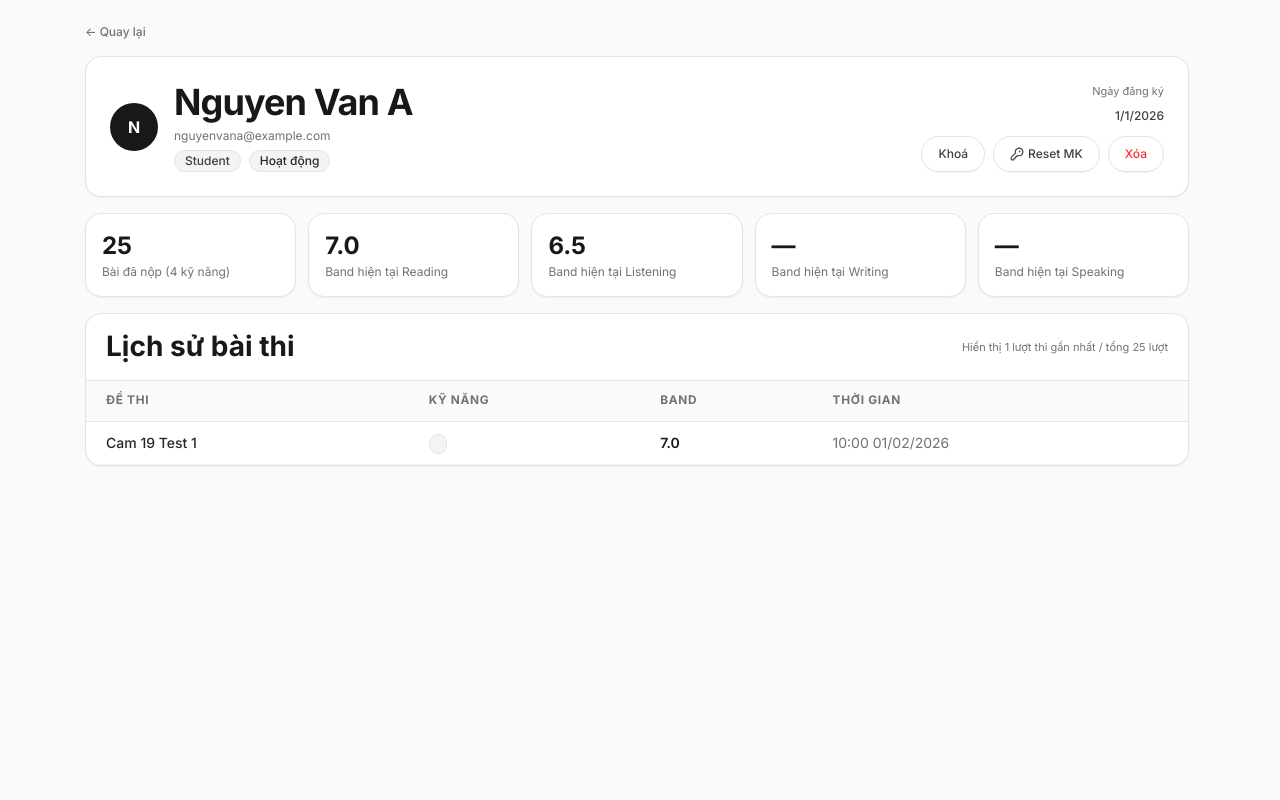
Test: UserDetail — BUG-06 & BUG-07 Action Handlers & Pagination › BUG-07: Reset mật khẩu mở modal xác nhận, gọi resetUserPassword và hiển thị mật khẩu mới
What coordinates should you click on to do the following:
click the button "Reset MK"
I would click on:
 (1046, 154)
Its box is [993,136,1100,172].
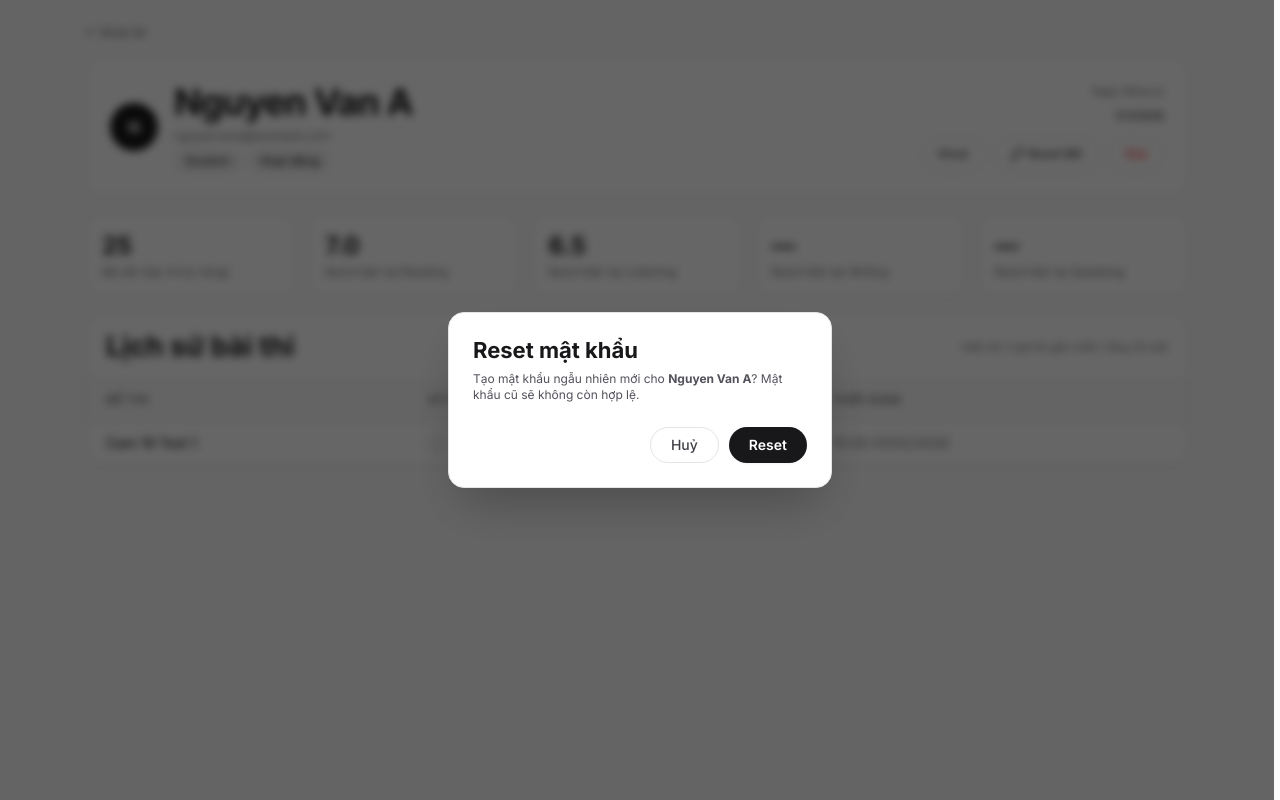
Now the text "Tạo mật khẩu ngẫu nhiên mới" is shown, box [473,371,668,386]
What coordinates should you click on to do the following:
click the button "Reset"
I would click on:
 (768, 445)
Its box is [729,427,807,463].
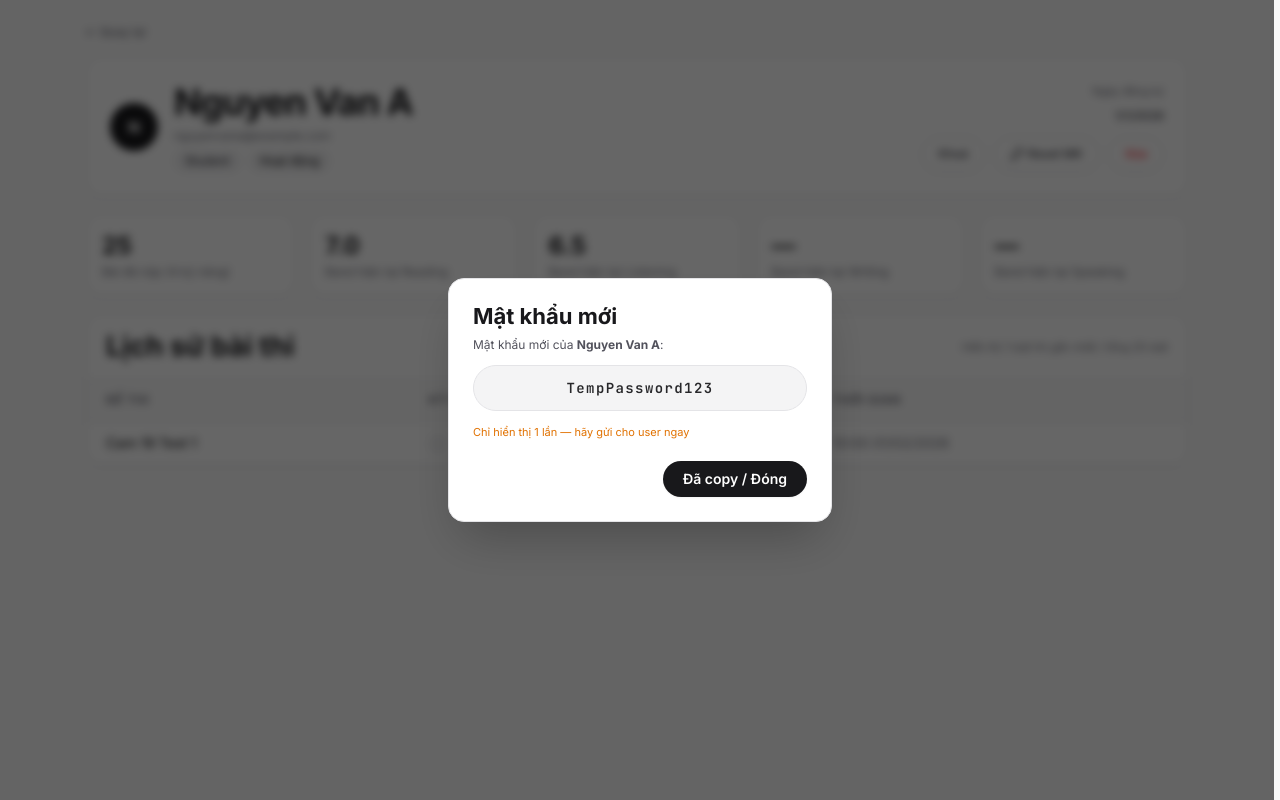
Now the text "TempPassword123" is shown, box [473,365,807,411]
